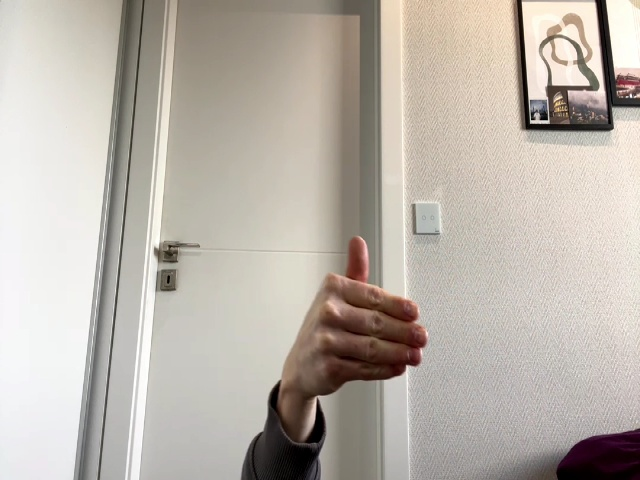M: (294, 237, 429, 408)
